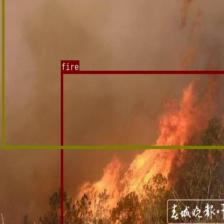fire: (60, 70, 224, 224)
smoke: (1, 0, 224, 148)
